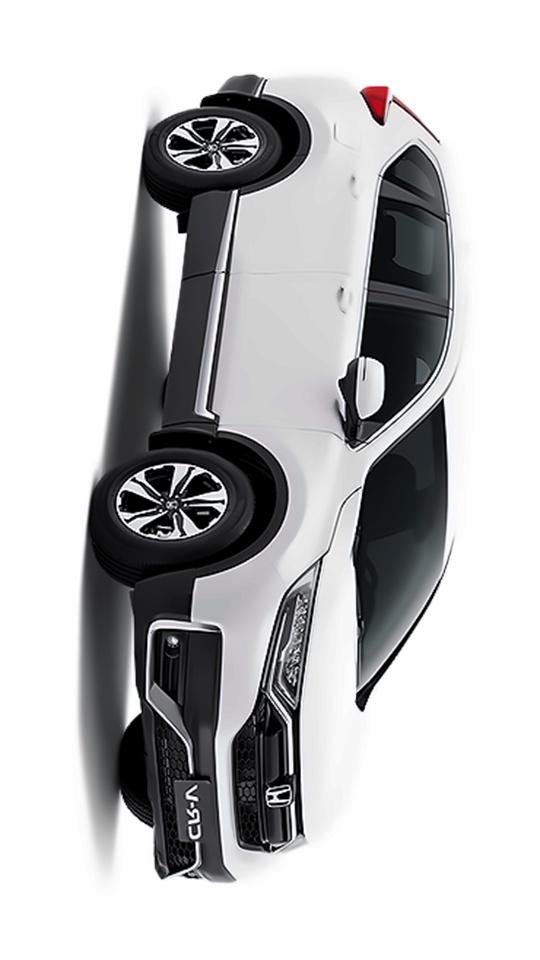Car hood: (287, 487, 373, 863)
Driver-s door - -F-R-: (151, 274, 463, 450)
Front bumper: (129, 518, 335, 894)
Headlight - -R-: (257, 555, 323, 726)
Passenger-s door - -R-R-: (200, 148, 463, 312)
Rear bumper: (207, 68, 368, 145)
Rear light - -R-: (355, 80, 399, 127)
Side bumper - -R-: (150, 183, 244, 446)
Side mirror - -R-: (342, 356, 388, 421)
